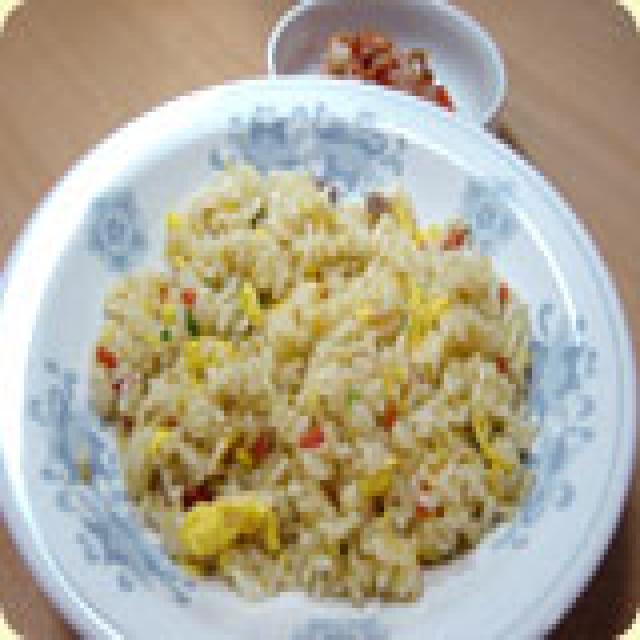米饭主食: (32, 117, 604, 640)
